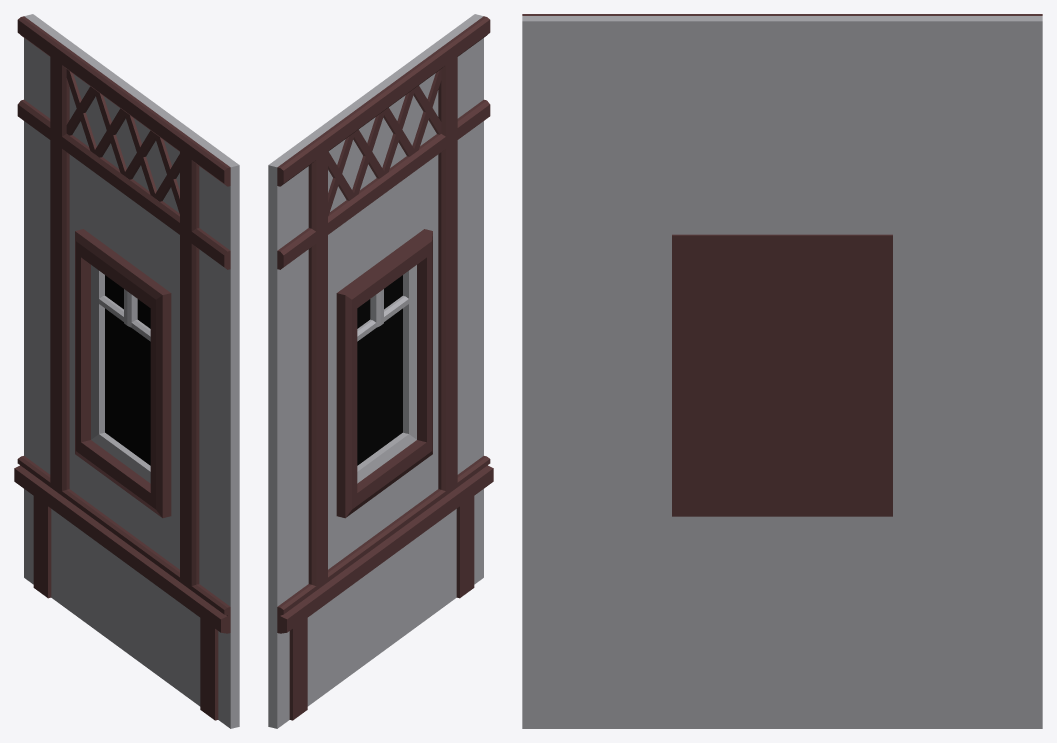
File: 1_Window_Single_2_S.fbx
The picture shows the model from 3 angles, left to right: view 1: azimuth 30°, elevation 25°; view 2: azimuth 150°, elevation 25°; view 3: azimuth 270°, elevation 25°; orthographic projection. The views are drawn at different scales.
Visible parts, largest first — view 1: 1_Window_Single_2_S; view 2: 1_Window_Single_2_S; view 3: 1_Window_Single_2_S.
Boxes of the visible parts, box(x1,y1,x2,y2) form: 1_Window_Single_2_S: box(14, 14, 239, 728); 1_Window_Single_2_S: box(268, 14, 493, 728); 1_Window_Single_2_S: box(522, 14, 1042, 728).
Bounding box in the file's own units: 12.36 × 200 × 300.
